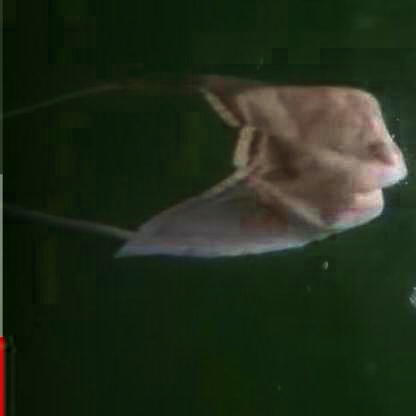Mask: (6, 66, 414, 266)
